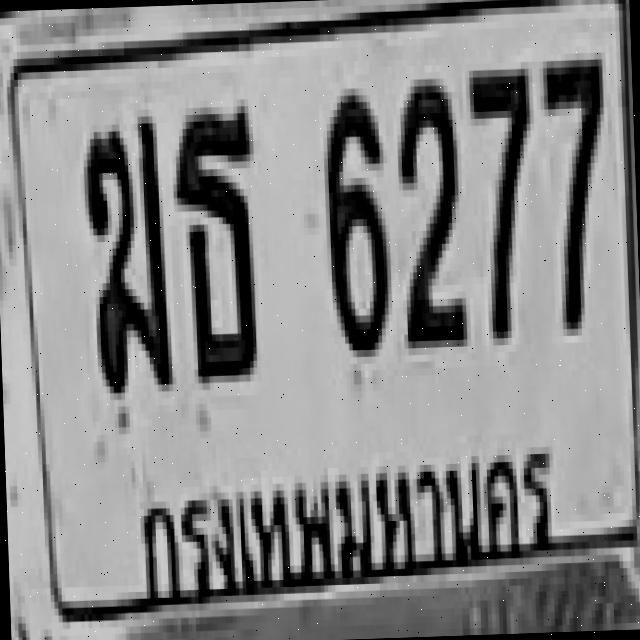15KhorRaKhang: (78, 112, 169, 390)
2: (391, 70, 463, 342)
33ThorThong: (170, 102, 257, 380)
6: (318, 81, 386, 351)
7: (464, 61, 538, 339), (538, 52, 607, 329)
Bangkok: (128, 448, 572, 586)
